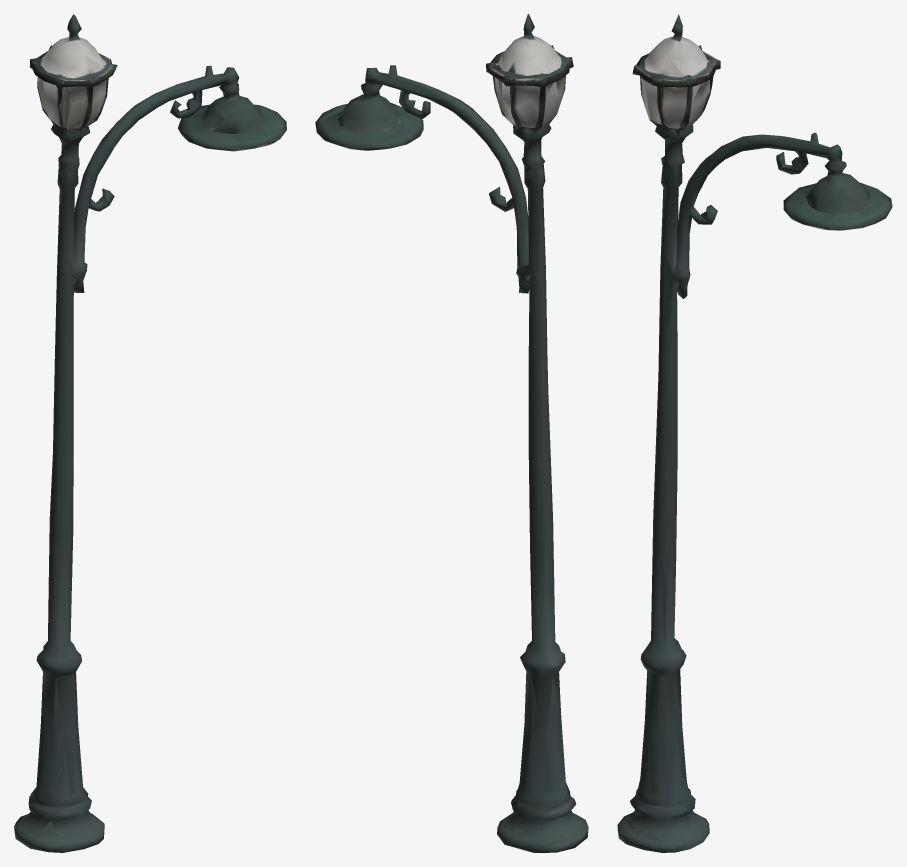
Rendered from lamp.glb.
3 views of the same model, side by side, from view 1: azimuth 30°, elevation 25°; view 2: azimuth 150°, elevation 25°; view 3: azimuth 330°, elevation 25° (orthographic).
Visible parts, largest first — view 1: tripo_node_09490bbf; view 2: tripo_node_09490bbf; view 3: tripo_node_09490bbf.
Part boxes in pixels (left/top/right/bottom): tripo_node_09490bbf: left=14, top=14, right=286, bottom=852; tripo_node_09490bbf: left=315, top=14, right=588, bottom=852; tripo_node_09490bbf: left=617, top=14, right=892, bottom=852.
Size of the model in its own units: 0.3333 by 1 by 0.1204.
1 material, 1 textured.
